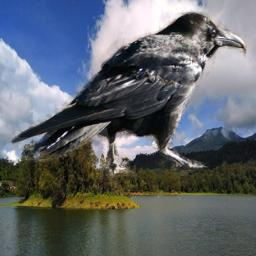Crow: (8, 10, 247, 184)
